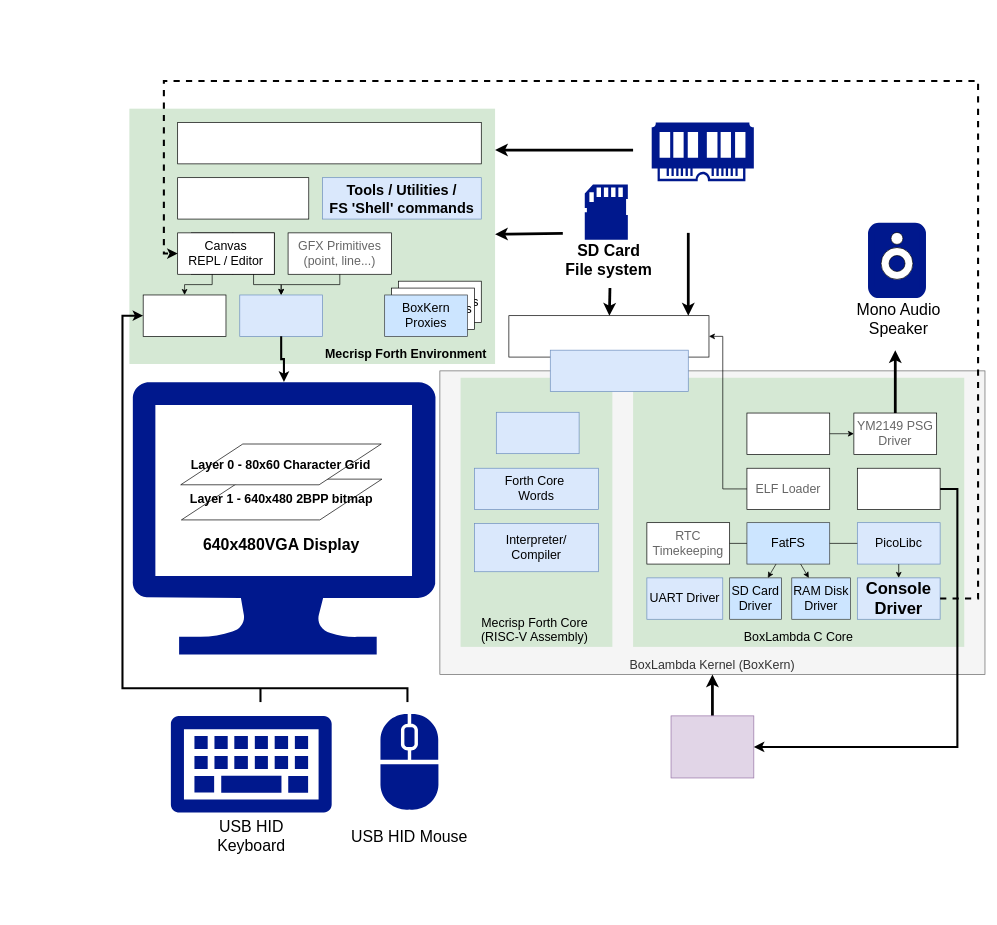
This 997x925 diagram has some shape labels left out. The centre of each missing label's shape, as x and y in pixels:
Binary Executables: the point at 608,336
Flash Driver: the point at 898,489
Flash Memory: the point at 712,746
Forth Application Code: the point at 329,143
Forth FFI: the point at 619,370
FS Access: the point at 537,433
RAM File system: the point at 702,151
RISC-V Assembler/ Disassembler: the point at 243,198
ST-Sound Library: the point at 788,433
USB HID Driver: the point at 184,315
VERA Driver: the point at 281,315
